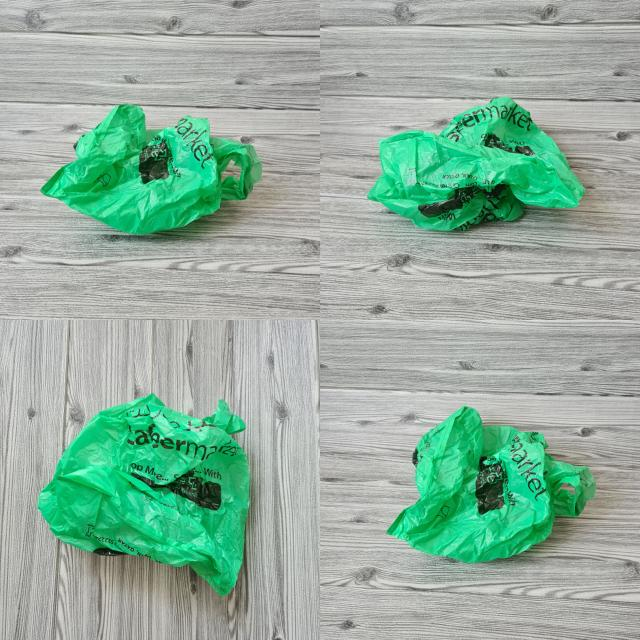Single-layer Plastic: (38, 394, 250, 595), (388, 406, 595, 562), (368, 98, 584, 231), (41, 105, 261, 235)
